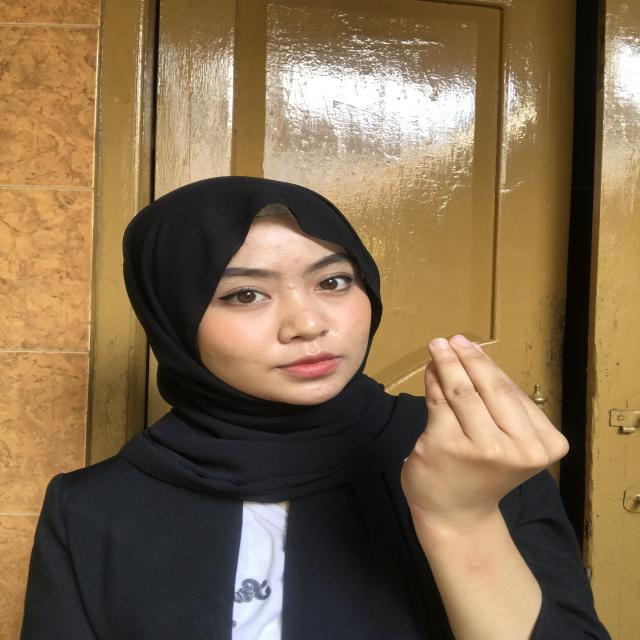kapan: (394, 323, 580, 524)
